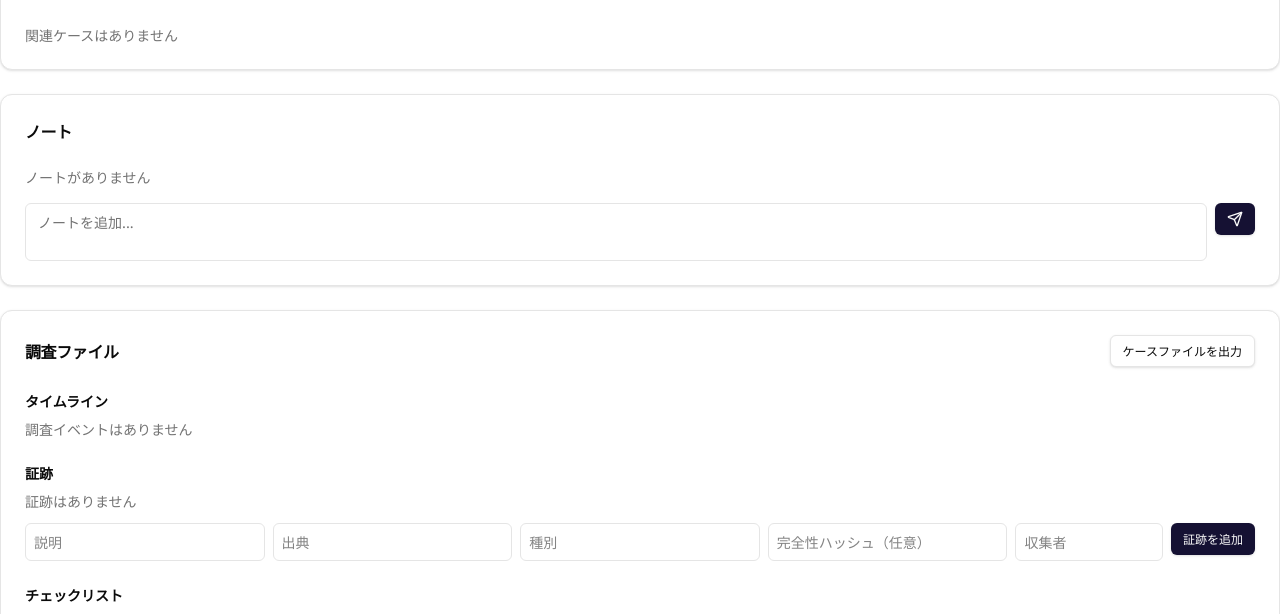
Test: shows a case-file export error without hiding the investigation file
The width and height of the screenshot is (1280, 614).
(page scrolled)
Step 1. Click the button "ケースファイルを出力" → click(1182, 351), box x1=1110 y1=335 x2=1255 y2=367
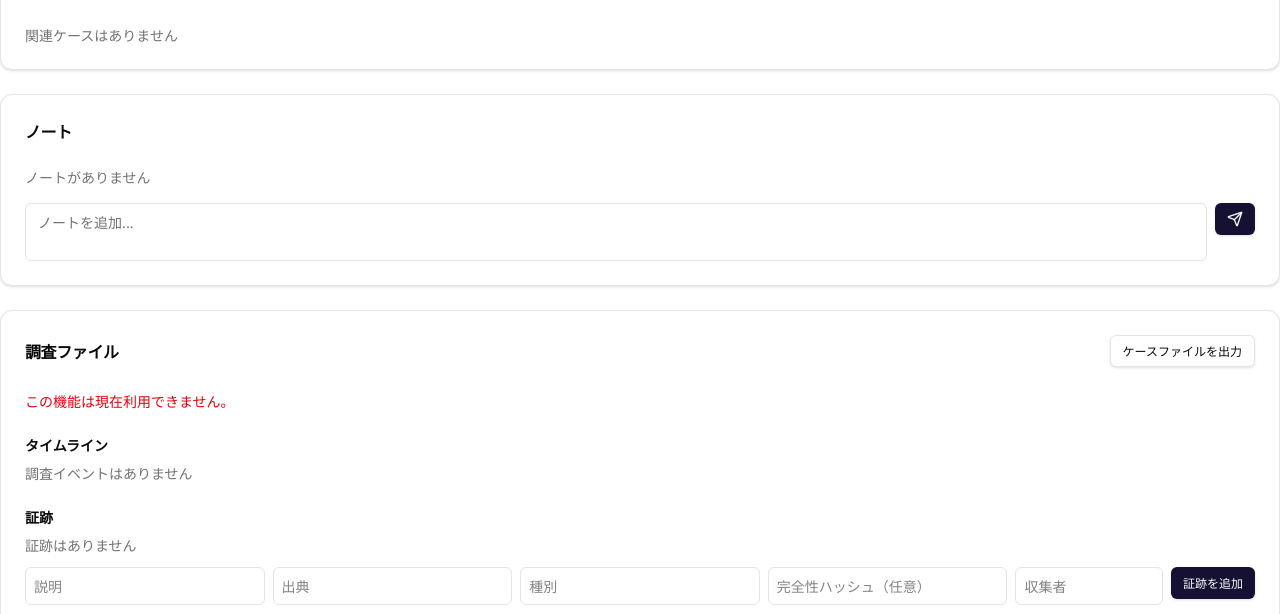
Expected: the text "調査ファイル" is shown, x1=25 y1=339 x2=119 y2=363
Now the message shows "この機能は現在利用できません", box x1=25 y1=391 x2=235 y2=411
